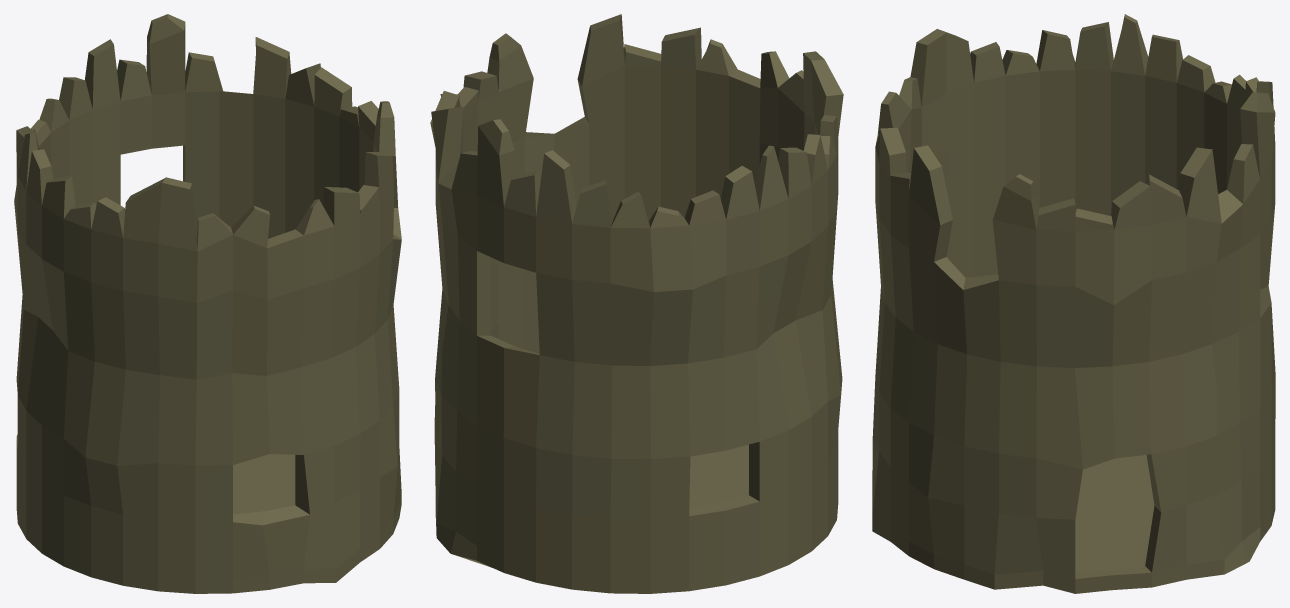
File: hut_2.fbx
3 views of the same model, side by side, from view 1: azimuth 30°, elevation 25°; view 2: azimuth 150°, elevation 25°; view 3: azimuth 270°, elevation 25° (orthographic). The views are drawn at different scales.
Parts seen in each view (by area): view 1: Walec; view 2: Walec; view 3: Walec.
Part boxes in pixels (bbox=[...]): Walec: bbox=[14, 14, 401, 593]; Walec: bbox=[430, 14, 843, 593]; Walec: bbox=[872, 14, 1275, 593].
Bounding box in the file's own units: 659 × 809 × 662.
